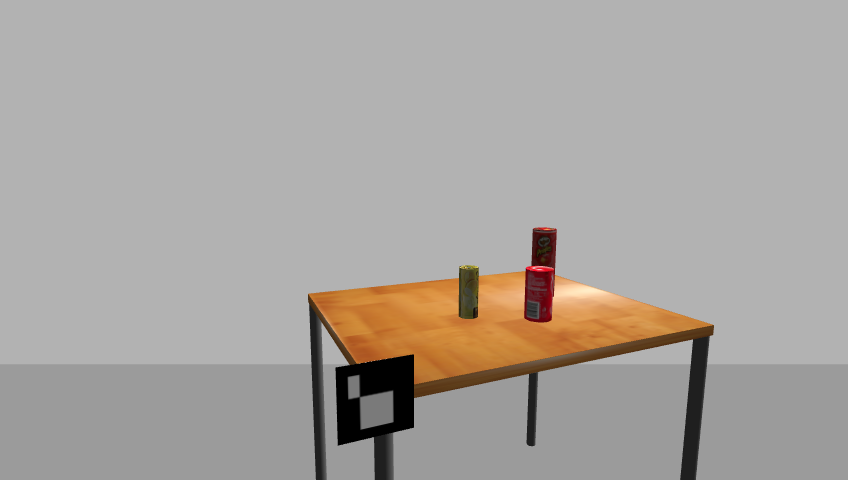aruco marker: (330, 354, 420, 447)
biscuits pack: (456, 264, 480, 321)
coke can: (523, 266, 556, 323)
dinner table: (300, 269, 724, 479)
pringles can: (530, 227, 559, 303)
